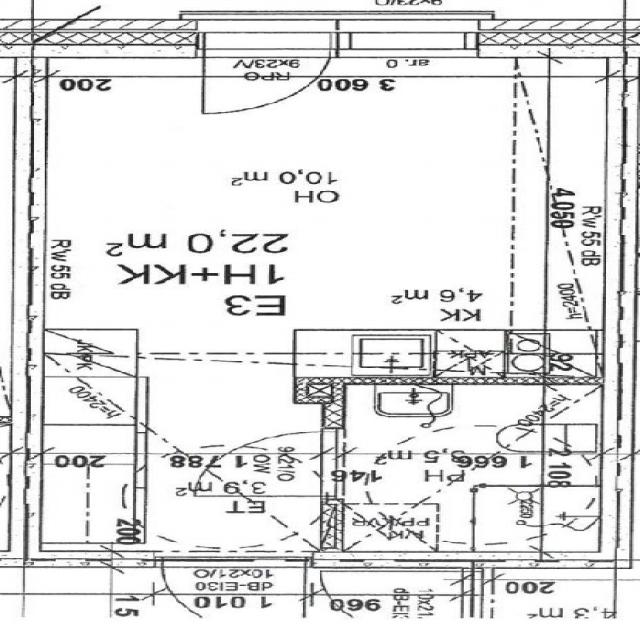door: (204, 19, 328, 119), (162, 550, 303, 637), (192, 432, 342, 496)
